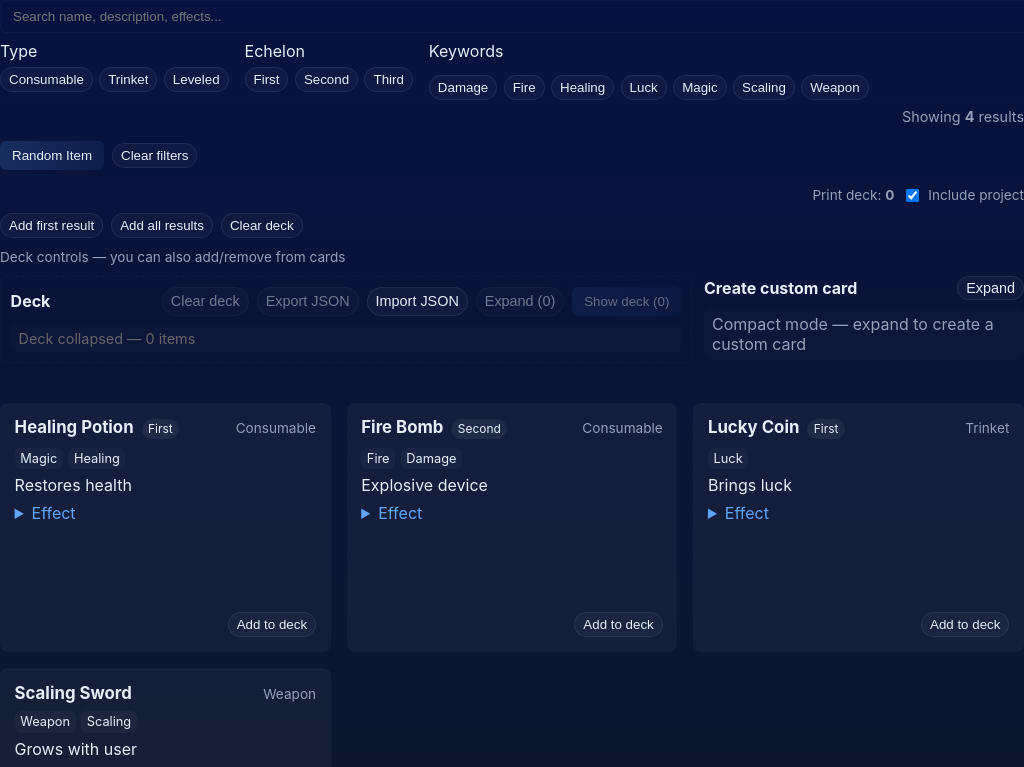
Test case: ItemList › filters items by type
Step 1. Click the button "Consumable" → (46,79), box [0,67,93,92]
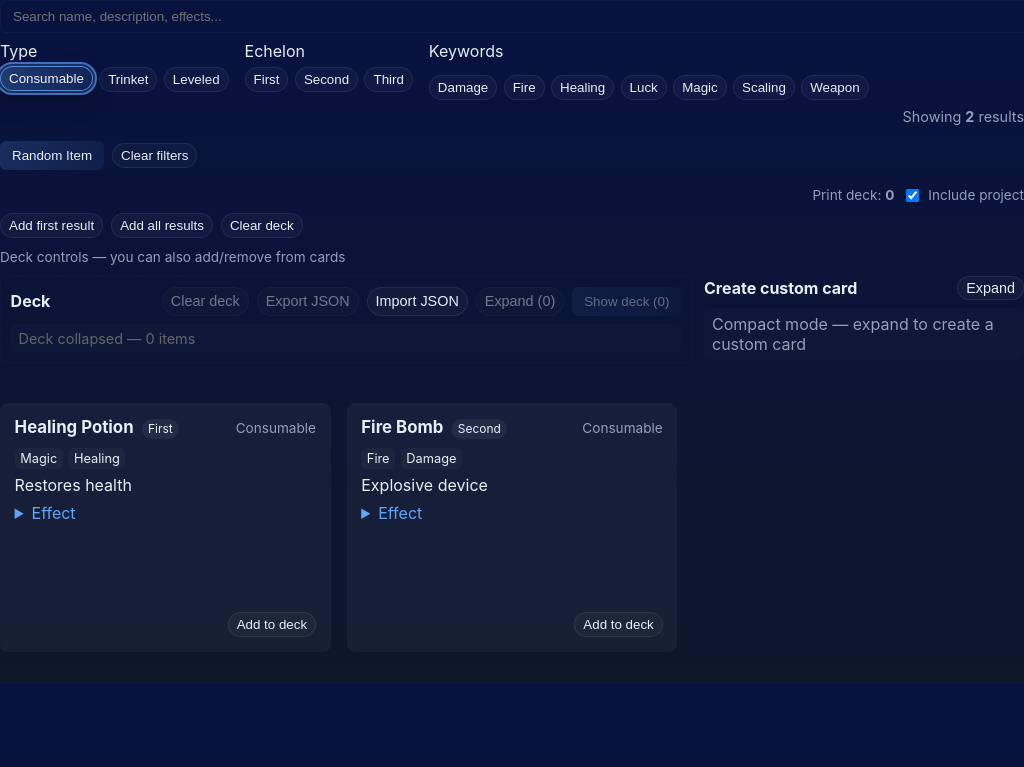
Expected: the heading "Healing Potion" is shown, [15,417,134,437]
Result: the heading "Lucky Coin" is gone
Result: the heading "Scaling Sword" is gone
